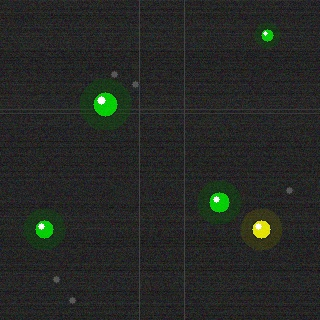green_normal: (91, 90, 119, 118), (207, 190, 231, 214), (33, 218, 55, 240), (259, 27, 275, 43)
yellow_warning: (250, 218, 272, 240)
